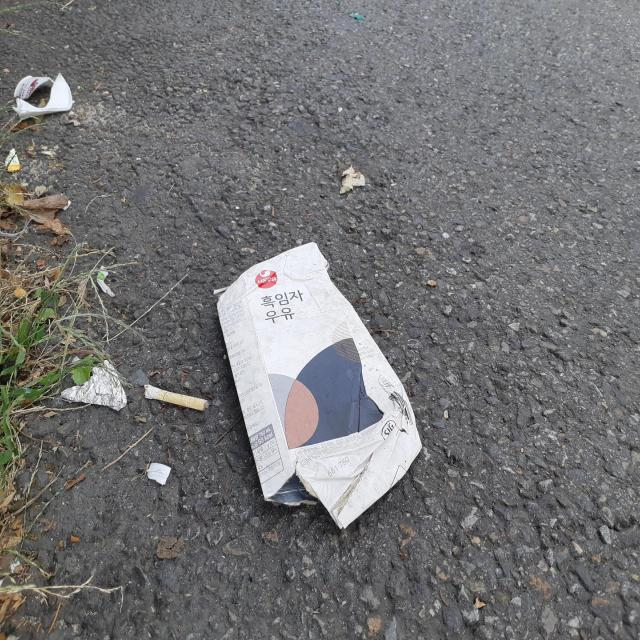paperpack: (217, 242, 422, 529)
